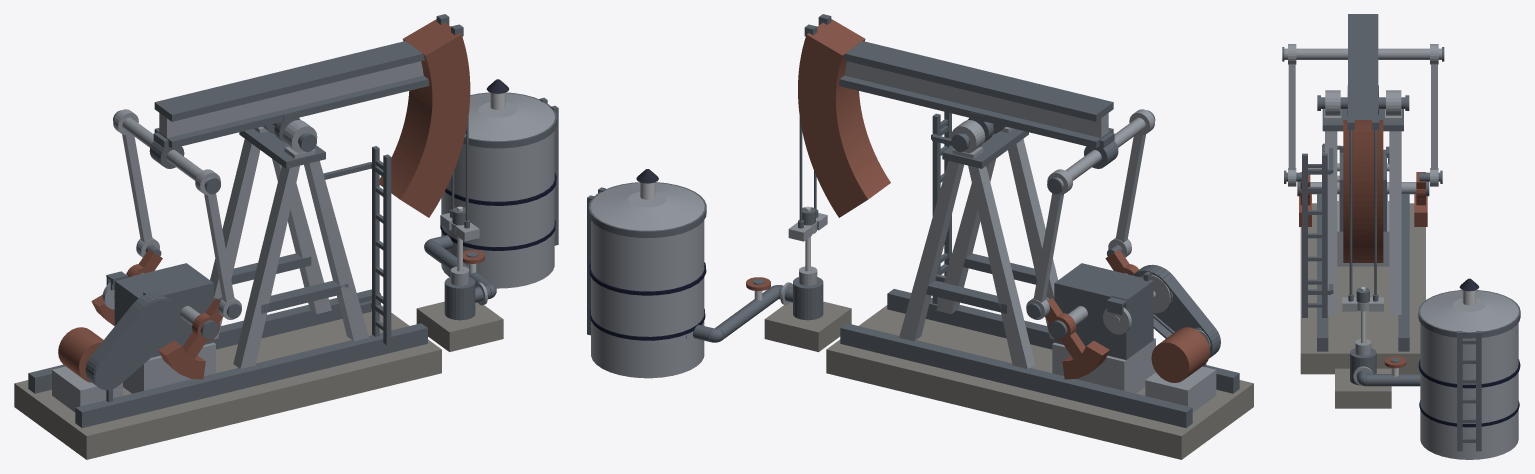
Rendered from oil_well_lvl1.glb.
3 renders of one model, left to right at view 1: azimuth 30°, elevation 25°; view 2: azimuth 150°, elevation 25°; view 3: azimuth 270°, elevation 25°, orthographic. The views are drawn at different scales.
Parts seen in each view (by area): view 1: oil_well; view 2: oil_well; view 3: oil_well.
Part boxes in pixels (left/top/right/bottom): oil_well: left=14, top=14, right=558, bottom=459; oil_well: left=587, top=14, right=1253, bottom=459; oil_well: left=1282, top=14, right=1520, bottom=459.
Bounding box in the file's own units: 1 × 0.5342 × 0.4237.
